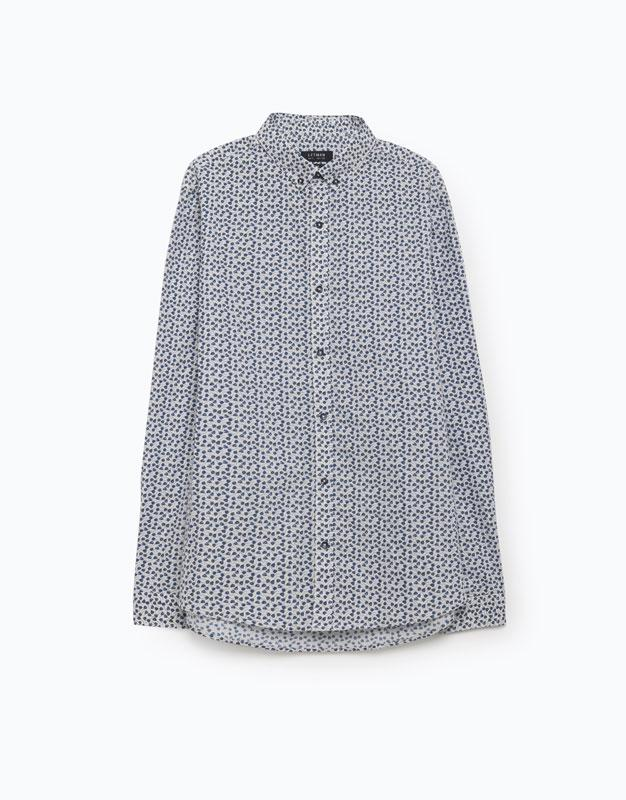teeshirt: (128, 108, 519, 656)
